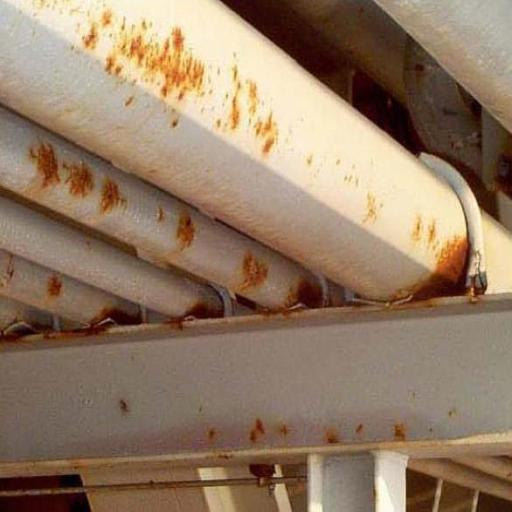segmentation: (83, 22, 207, 94), (402, 240, 497, 333), (230, 82, 284, 155), (4, 323, 109, 344), (164, 299, 223, 328), (27, 142, 60, 188), (174, 208, 196, 240), (70, 157, 90, 192), (244, 257, 268, 284), (242, 416, 272, 437)
